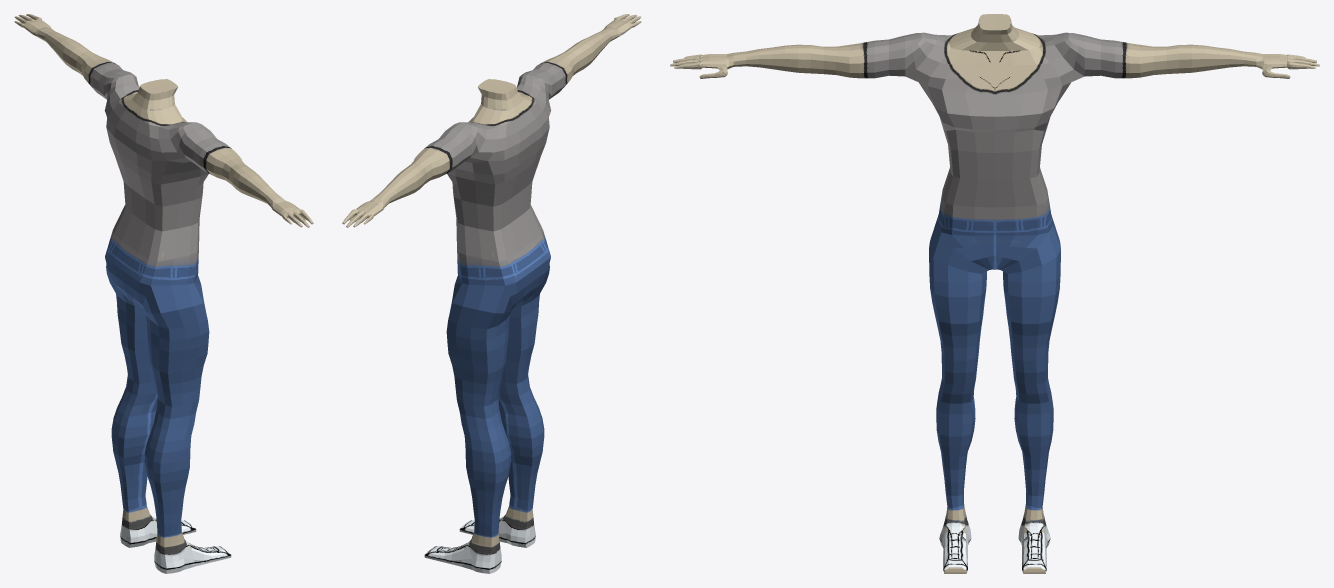
The model's file is AdultFemale.fbx.
3 renders of one model, left to right at view 1: azimuth 30°, elevation 25°; view 2: azimuth 150°, elevation 25°; view 3: azimuth 270°, elevation 25°, orthographic. The views are drawn at different scales.
Visible parts, largest first — view 1: Cube; view 2: Cube; view 3: Cube.
Boxes of the visible parts, <box> form: Cube: <box>14,14,313,573</box>; Cube: <box>342,14,641,573</box>; Cube: <box>670,14,1319,573</box>.
Bounding box in the file's own units: 85.95 × 438 × 492.
